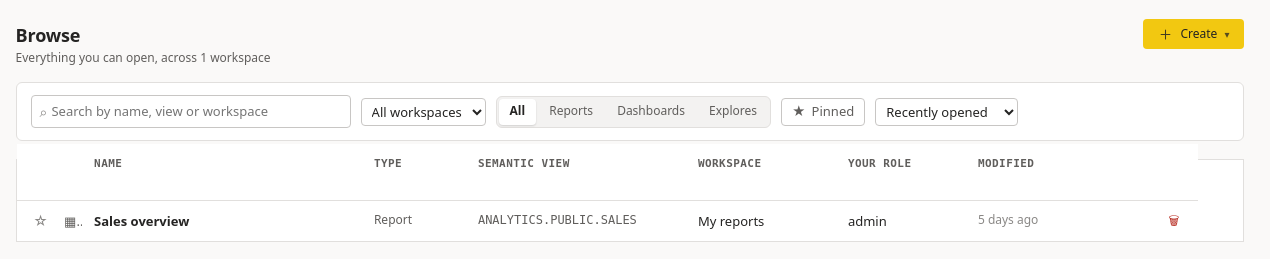
Test case: WorkspacePage › will not create until a workspace is chosen, and says so
Expected: the link "Sales overview" is shown, left=94, top=212, right=189, bottom=230
Click the button "Create ▾": (1194, 34) left=1144, top=19, right=1244, bottom=49
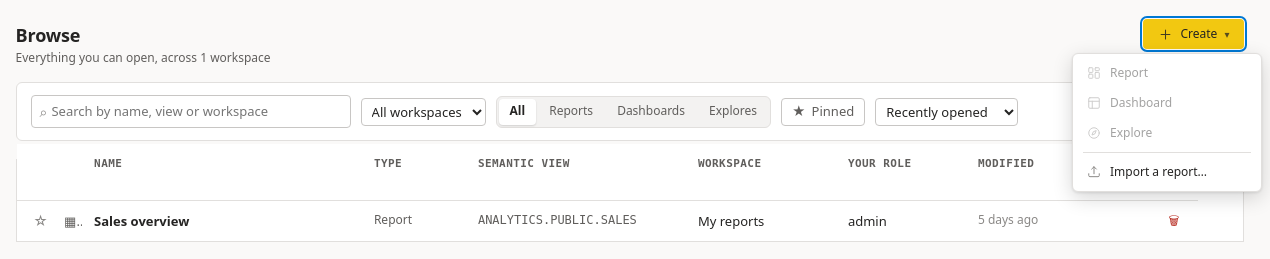
Now the menu item "Report" is disabled, box left=1077, top=58, right=1257, bottom=88
